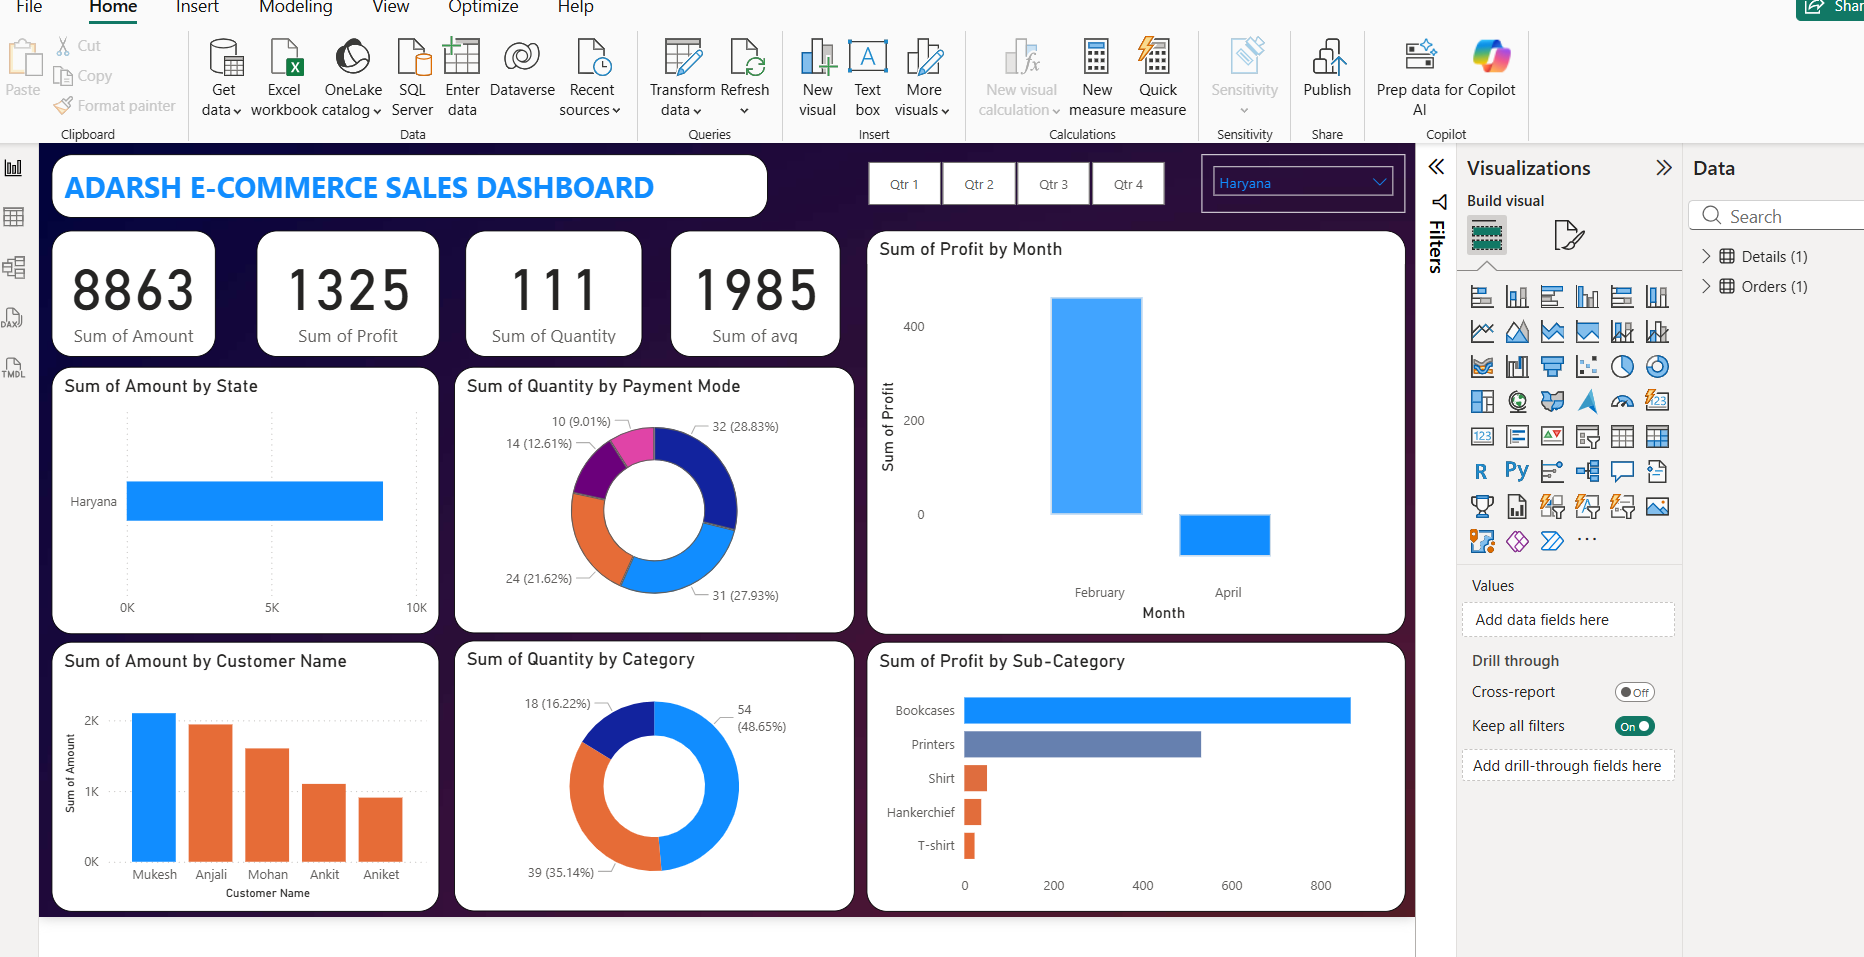

The dashboard page shown, as its layout file describes it:
{"tool":"powerbi","page":{"name":"Page 1","canvas":[1280,720],"ordinal":0},"visuals":[{"type":"textbox","box":[12.2,10.8,666.5,59.5],"z":0},{"type":"columnChart","fields":{"Category":["Orders (1).Order Date.Variation.Date Hierarchy.Month"],"Y":["Details (1).Profit"]},"box":[769.2,81.1,501.6,375.8],"z":1000},{"type":"barChart","fields":{"Category":["Details (1).Sub-Category"],"Y":["Details (1).Profit"]},"box":[769.2,464,501.6,251.5],"z":2000},{"type":"donutChart","fields":{"Y":["Details (1).Quantity"],"Category":["Details (1).PaymentMode"]},"box":[386.1,208.6,372.6,247.9],"z":3000},{"type":"donutChart","fields":{"Y":["Details (1).Quantity"],"Category":["Details (1).Category"]},"box":[386.1,463.3,372.6,252],"z":4000},{"type":"card","fields":{"Values":["Details (1).Quantity"]},"box":[396.1,81.1,164.9,117.6],"z":5000},{"type":"card","fields":{"Values":["Details (1).Amount"]},"box":[12.2,81.1,152.8,117.6],"z":6000},{"type":"card","fields":{"Values":["Details (1).Profit"]},"box":[202.8,81.1,170.3,117.6],"z":7000},{"type":"card","fields":{"Values":["Details (1).avg"]},"box":[586.7,81.1,158.2,117.6],"z":8000},{"type":"barChart","fields":{"Category":["Orders (1).State"],"Y":["Details (1).Amount"]},"box":[12.2,208.2,361,248.8],"z":9000},{"type":"columnChart","fields":{"Category":["Orders (1).CustomerName"],"Y":["Details (1).Amount"]},"box":[12.2,463.7,361,251.5],"z":10000},{"type":"slicer","fields":{"Values":["Orders (1).Order Date.Variation.Date Hierarchy.Quarter"]},"box":[744.9,10.8,325.8,54.1],"z":11000},{"type":"slicer","fields":{"Values":["Orders (1).State"]},"box":[1081.5,10.8,189.3,54.1],"z":12000}]}

Visuals, with their boxes on the page's 1280x720 design canvas (x1, y1, x2, y2). These are canvas units, not pixel positions in the 1864x957 screenshot, which may show the page scaled, cropped or inside an application window:
textbox: (12, 11, 679, 70)
columnChart - Orders (1).Order Date.Variation.Date Hierarchy.Month x Details (1).Profit: (769, 81, 1271, 457)
barChart - Details (1).Sub-Category x Details (1).Profit: (769, 464, 1271, 716)
donutChart - Details (1).Quantity x Details (1).PaymentMode: (386, 209, 759, 456)
donutChart - Details (1).Quantity x Details (1).Category: (386, 463, 759, 715)
card - Details (1).Quantity: (396, 81, 561, 199)
card - Details (1).Amount: (12, 81, 165, 199)
card - Details (1).Profit: (203, 81, 373, 199)
card - Details (1).avg: (587, 81, 745, 199)
barChart - Orders (1).State x Details (1).Amount: (12, 208, 373, 457)
columnChart - Orders (1).CustomerName x Details (1).Amount: (12, 464, 373, 715)
slicer - Orders (1).Order Date.Variation.Date Hierarchy.Quarter: (745, 11, 1071, 65)
slicer - Orders (1).State: (1082, 11, 1271, 65)
